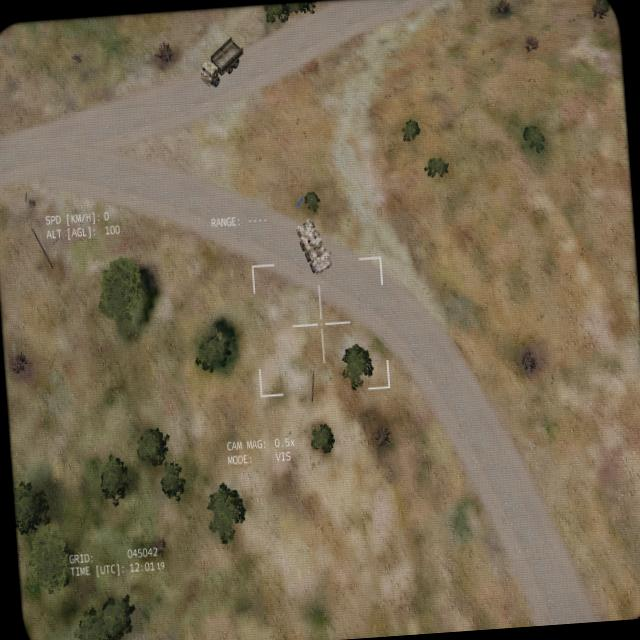apc: (293, 214, 333, 276)
truck: (196, 36, 244, 89)
